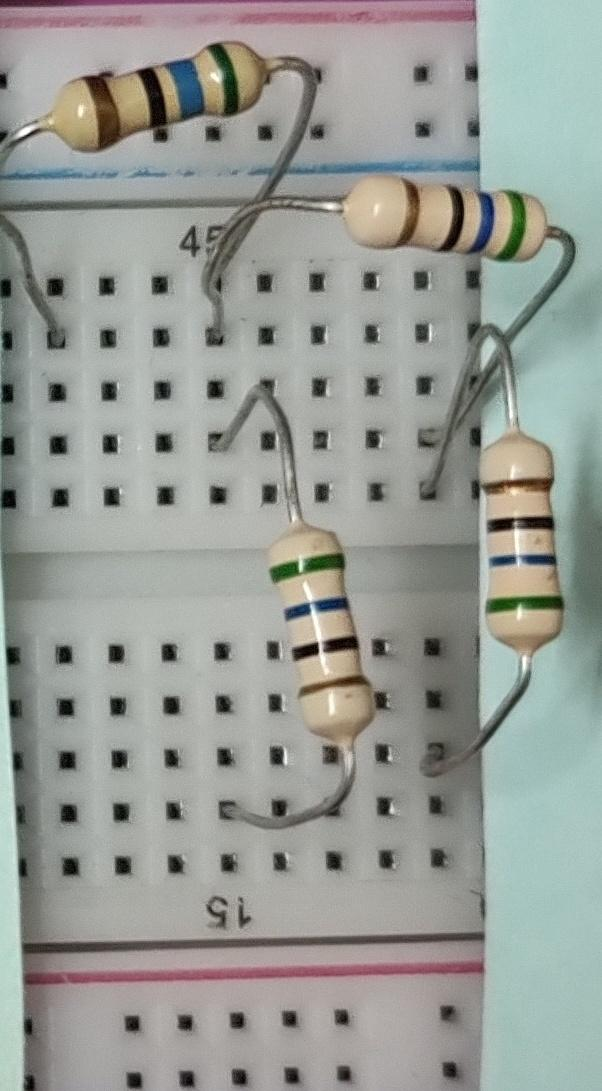resistor: (249, 509, 398, 756), (455, 419, 582, 675), (33, 31, 274, 157), (327, 151, 563, 276)
